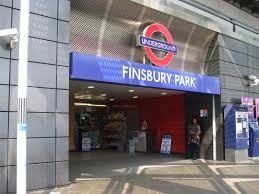London Underground: (135, 22, 178, 68)
